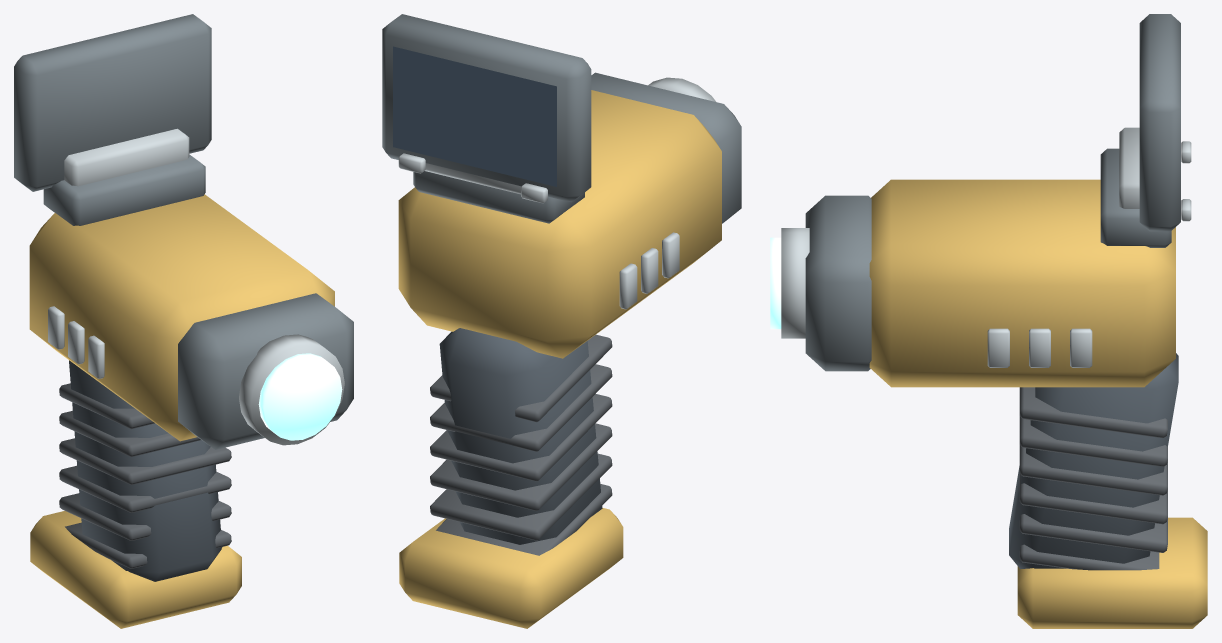
File: scanner_standard.glb
3 renders of one model, left to right at view 1: azimuth 30°, elevation 25°; view 2: azimuth 150°, elevation 25°; view 3: azimuth 270°, elevation 25°, orthographic. The views are drawn at different scales.
Parts seen in each view (by area): view 1: ToolBody_gold, LiveViewSurfaceFrame_frame, Grip_black, NoseHousing_frame, Battery_gold, GripRib_rubber, DisplayMount_frame, Lens_cyan, DisplayBracket_steel, LensMount_steel, HousingVent_steel; view 2: ToolBody_gold, Grip_black, LiveViewSurface_glass, GripRib_rubber, Battery_gold, LiveViewSurfaceFrame_frame, NoseHousing_frame, DisplayMount_frame, HousingVent_steel, DisplayControls_steel, DisplayBracket_steel, LensMount_steel; view 3: ToolBody_gold, Grip_black, GripRib_rubber, Battery_gold, NoseHousing_frame, LiveViewSurfaceFrame_frame, DisplayMount_frame, LensMount_steel, HousingVent_steel, DisplayBracket_steel, Lens_cyan.
Part boxes in pixels (x1,y1,x2,y2): ToolBody_gold: [29, 194, 334, 441]; LiveViewSurfaceFrame_frame: [14, 14, 211, 191]; Grip_black: [69, 360, 222, 581]; NoseHousing_frame: [178, 293, 353, 449]; Battery_gold: [30, 511, 241, 628]; GripRib_rubber: [59, 383, 231, 568]; DisplayMount_frame: [43, 154, 205, 225]; Lens_cyan: [258, 353, 342, 440]; DisplayBracket_steel: [64, 128, 189, 186]; LensMount_steel: [239, 334, 344, 445]; HousingVent_steel: [48, 306, 104, 378]; ToolBody_gold: [398, 90, 721, 358]; Grip_black: [439, 328, 602, 544]; LiveViewSurface_glass: [393, 46, 556, 186]; GripRib_rubber: [430, 334, 612, 555]; Battery_gold: [399, 507, 623, 628]; LiveViewSurfaceFrame_frame: [382, 14, 591, 202]; NoseHousing_frame: [591, 72, 741, 223]; DisplayMount_frame: [413, 171, 584, 223]; HousingVent_steel: [619, 232, 679, 309]; DisplayControls_steel: [398, 153, 547, 203]; DisplayBracket_steel: [425, 163, 521, 194]; LensMount_steel: [648, 77, 715, 101]; ToolBody_gold: [869, 179, 1175, 387]; Grip_black: [1009, 353, 1178, 568]; GripRib_rubber: [1019, 387, 1167, 570]; Battery_gold: [1017, 517, 1207, 628]; NoseHousing_frame: [805, 195, 871, 371]; LiveViewSurfaceFrame_frame: [1139, 14, 1180, 231]; DisplayMount_frame: [1100, 148, 1171, 247]; LensMount_steel: [781, 228, 809, 338]; HousingVent_steel: [987, 328, 1092, 367]; DisplayBracket_steel: [1119, 127, 1139, 208]; Lens_cyan: [770, 237, 781, 329].
Size of the model in its own units: 0.371 by 0.95 by 0.691.
